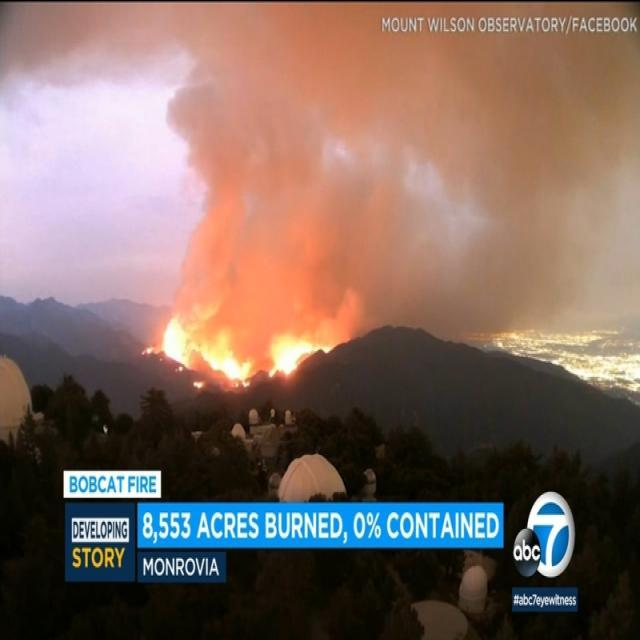Fire: (162, 316, 252, 390), (210, 322, 253, 388), (270, 334, 332, 378), (162, 313, 192, 367), (190, 371, 204, 391)
Smoke: (160, 80, 613, 356), (176, 194, 241, 298), (341, 276, 369, 343)
